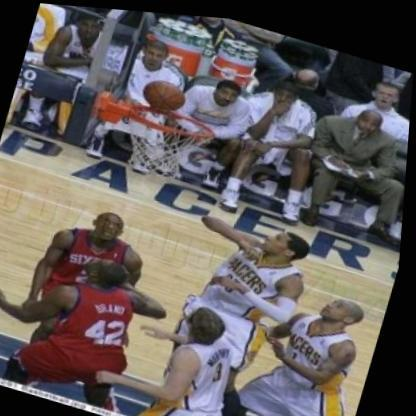basketball: (135, 68, 197, 117)
rim: (115, 93, 216, 188)
